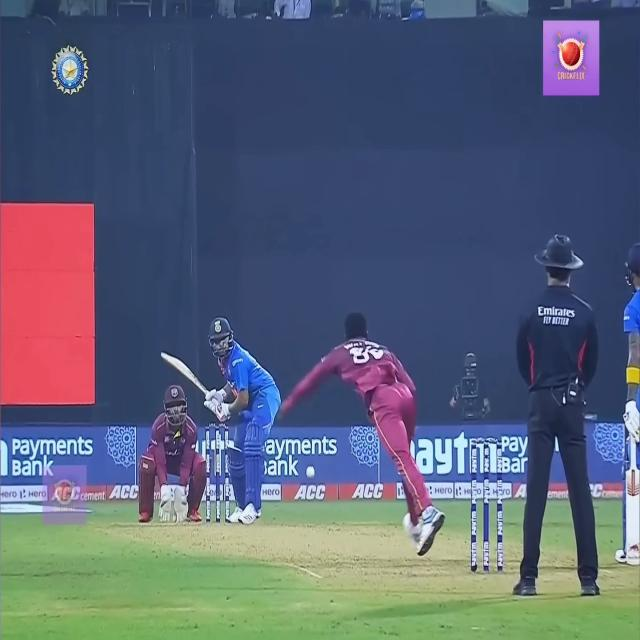partially_visible: (410, 431, 500, 485)
